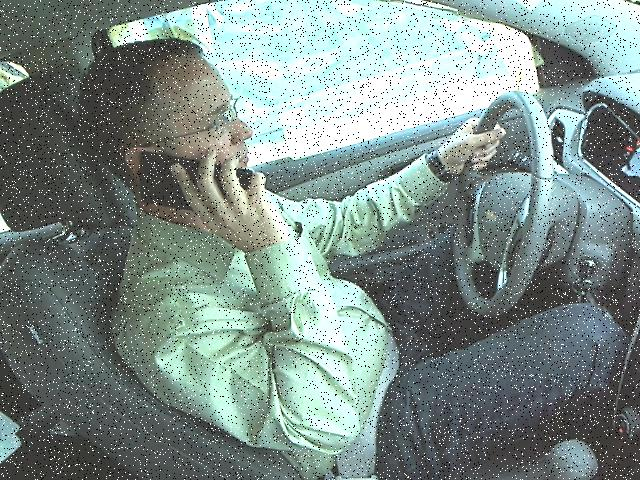c2 - Talking on the phone: (71, 36, 562, 444)
